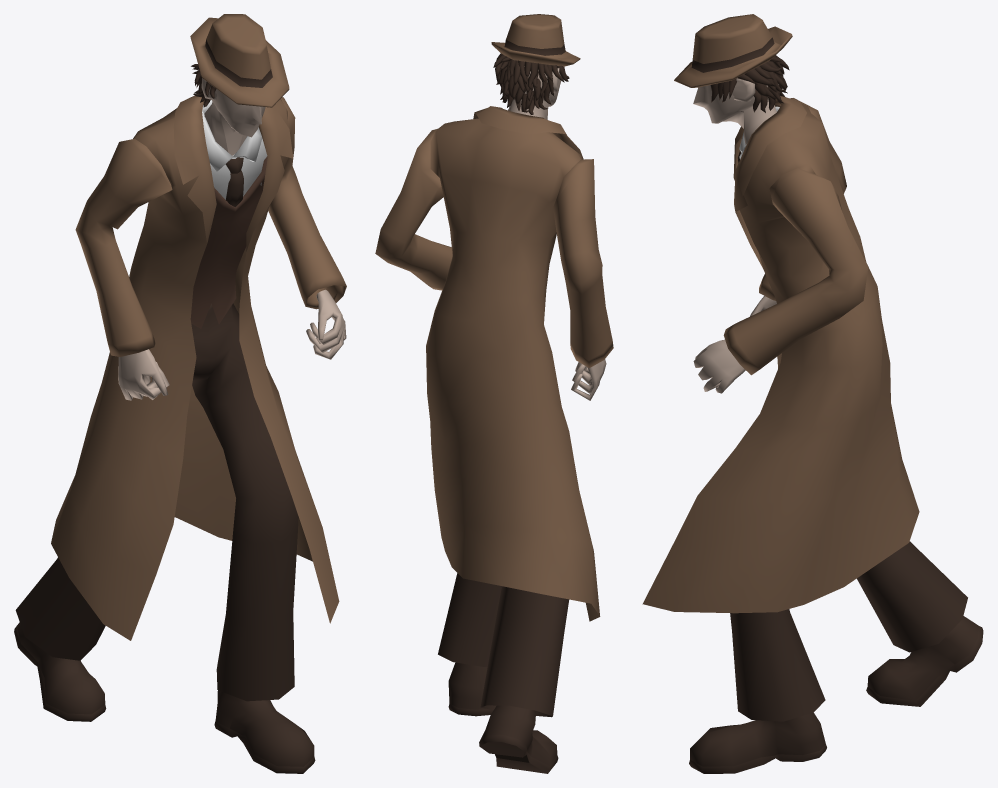
File: detective.fbx
The picture shows the model from 3 angles, left to right: view 1: azimuth 30°, elevation 25°; view 2: azimuth 150°, elevation 25°; view 3: azimuth 270°, elevation 25°; orthographic projection. The views are drawn at different scales.
Visible parts, largest first — view 1: detective_body; view 2: detective_body; view 3: detective_body.
Part boxes in pixels (<box>): detective_body: <box>14,14,346,773</box>; detective_body: <box>375,14,613,773</box>; detective_body: <box>642,14,983,773</box>.
Size of the model in its own units: 58.01 by 183 by 77.66.
